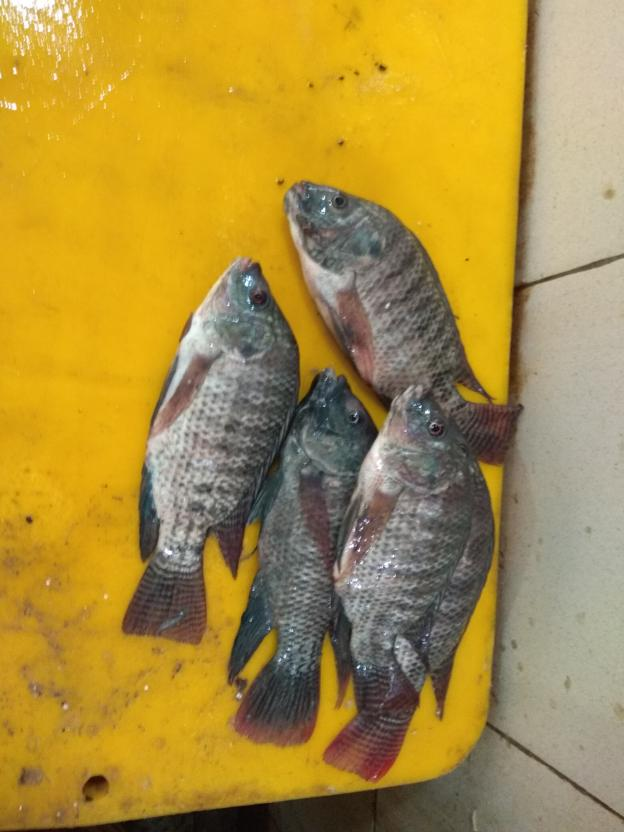Fish head: (186, 256, 287, 367), (367, 384, 470, 489), (282, 177, 387, 278), (289, 367, 382, 479)
Fish tail: (318, 688, 425, 784), (234, 655, 322, 750), (120, 559, 210, 649), (448, 392, 526, 468)
